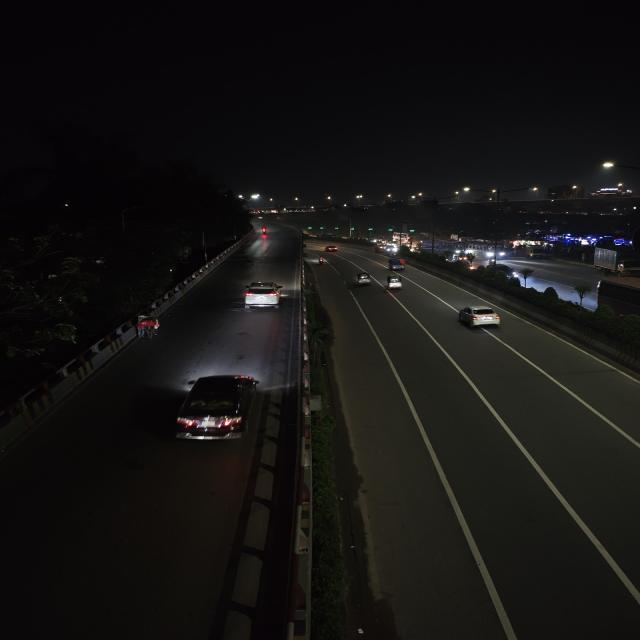bus: (465, 241, 510, 260), (483, 243, 511, 261)
car: (171, 369, 262, 446), (457, 302, 503, 332), (241, 280, 286, 310), (376, 242, 398, 254), (324, 244, 340, 254)
cng: (384, 273, 406, 293), (353, 269, 373, 287)
motorcycle: (133, 312, 164, 340), (316, 255, 327, 267), (260, 226, 270, 236)
pickup_van: (385, 255, 406, 272)
truck: (592, 245, 640, 278), (524, 245, 547, 260)
